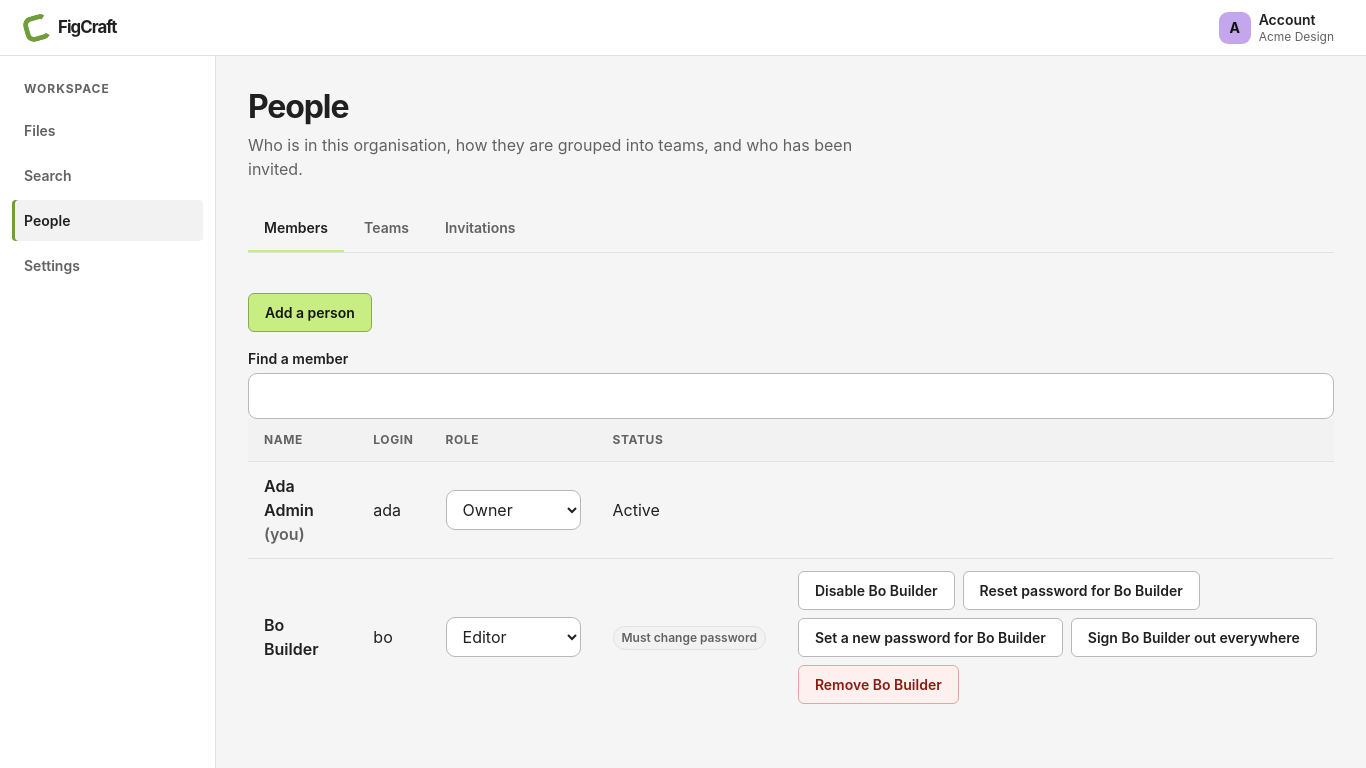
Test case: temporary passwords set by an administrator › shows who still has a temporary password and sets a new one
expect the text with test id "must-change-badge" reads "Must change password": met, box [622,630,757,645]
What coordinates should you click on to do the following:
click the button "Set a new password for Bo Builder"
I would click on:
 (930, 637)
Its box is [798,618,1063,657].
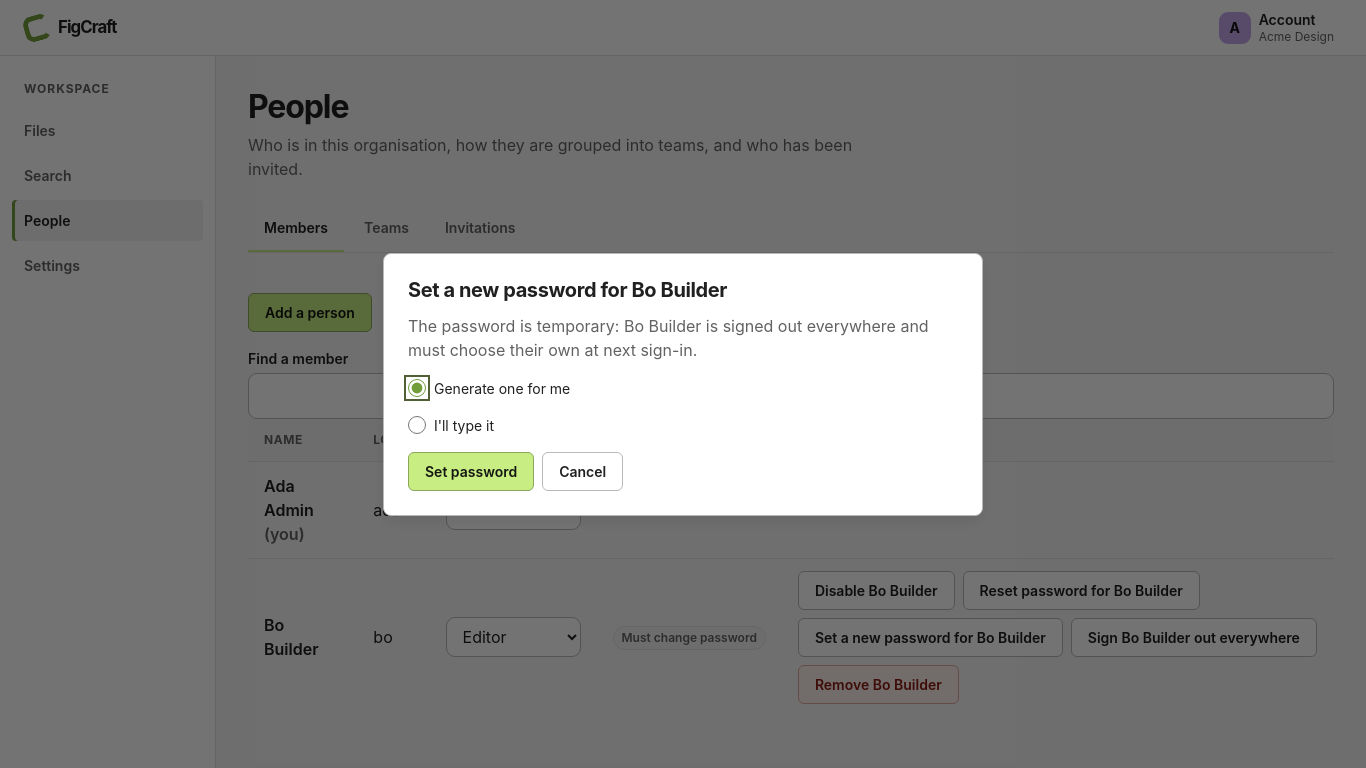
expect the text "must choose their own at next sign-in" is shown: met, box [408,316,929,360]
What coordinates should you click on to do the following:
click the button with test id "setpw-submit"
I would click on:
 (471, 471)
Its box is [408,452,534,490].
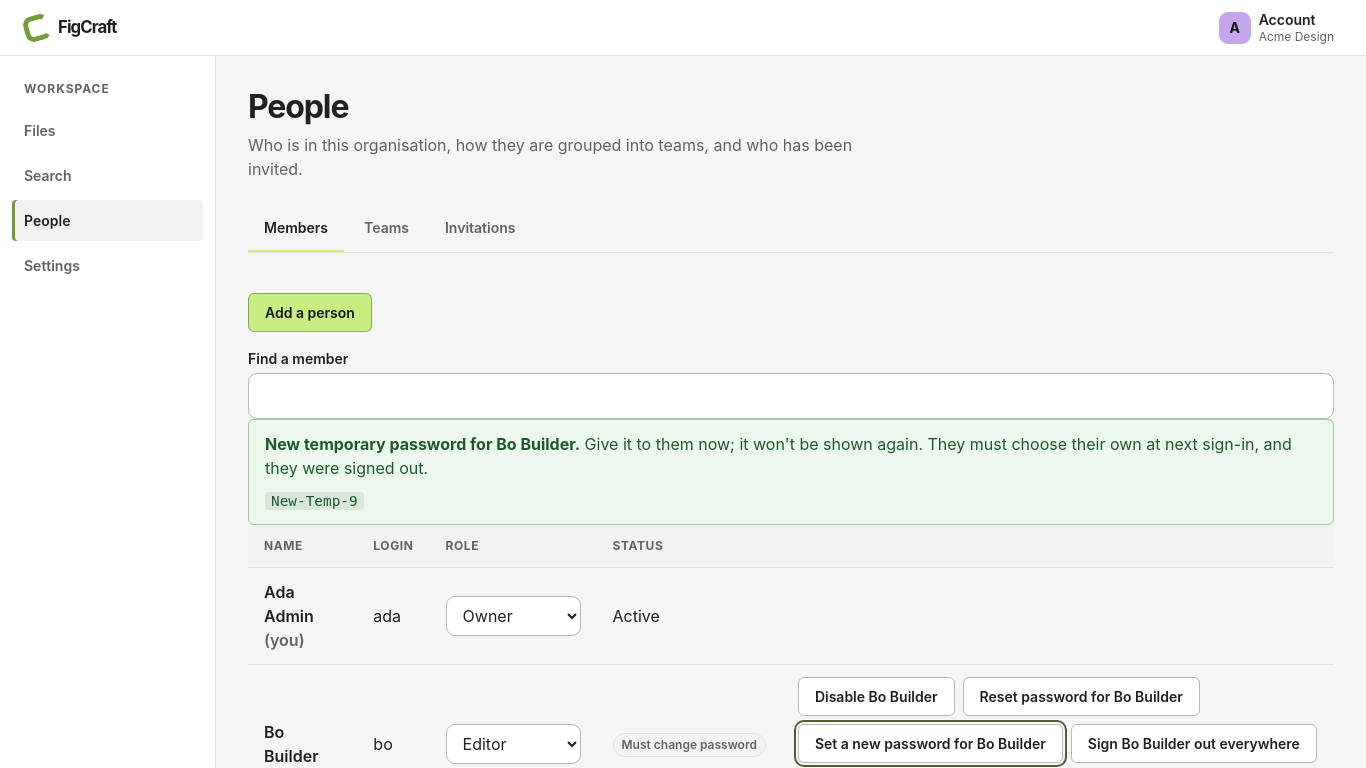
expect the text with test id "onetime-password-value" reads "New-Temp-9": met, box [271,493,358,509]
expect the dialog is gone: met
